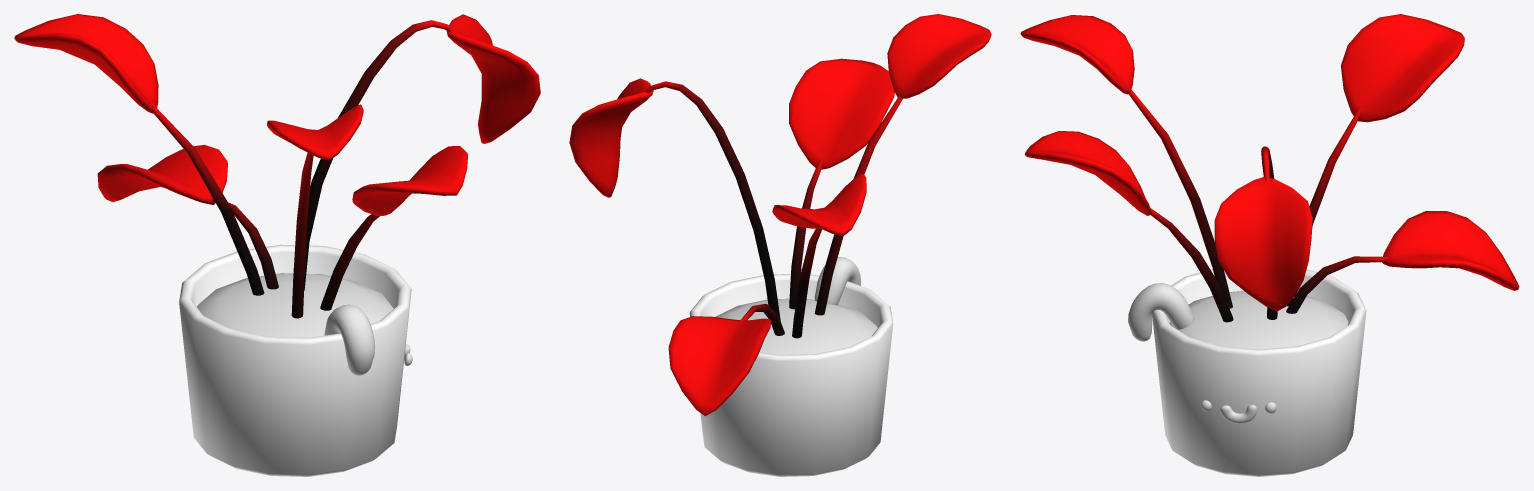
File: KM_PlantPot01.fbx
3 views of the same model, side by side, from view 1: azimuth 30°, elevation 25°; view 2: azimuth 150°, elevation 25°; view 3: azimuth 270°, elevation 25° (orthographic). The views are drawn at different scales.
Parts seen in each view (by area): view 1: Pot, PotBody; view 2: Pot, PotBody; view 3: Pot, PotBody, PotFace.
Part boxes in pixels (left/top/right/bottom): Pot: left=14, top=14, right=540, bottom=476; PotBody: left=197, top=273, right=393, bottom=375; Pot: left=569, top=14, right=991, bottom=476; PotBody: left=715, top=257, right=877, bottom=354; Pot: left=1020, top=14, right=1519, bottom=476; PotBody: left=1128, top=283, right=1348, bottom=349; PotFace: left=1200, top=400, right=1276, bottom=423.
Size of the model in its own units: 1.61 by 1.6 by 1.89.
